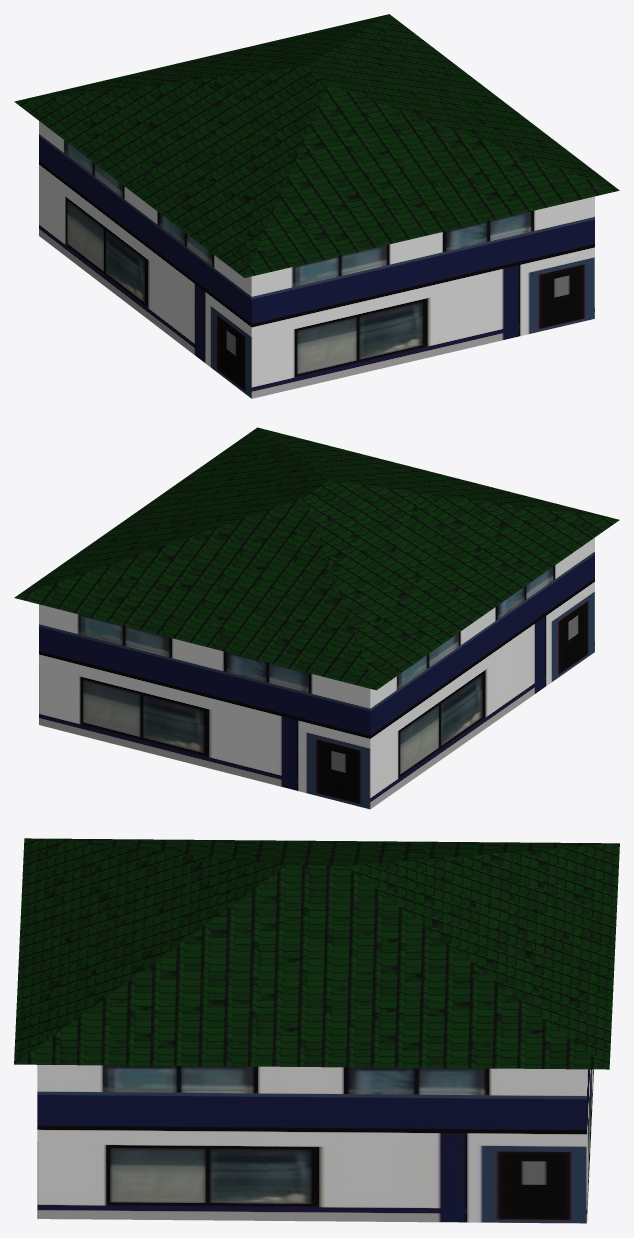
The picture shows the model from 3 angles, top to bottom: view 1: azimuth 30°, elevation 25°; view 2: azimuth 150°, elevation 25°; view 3: azimuth 270°, elevation 25°; orthographic projection. The views are drawn at different scales.
Parts seen in each view (by area): view 1: CityEngineMaterial_13_m, CityEngineMaterial_2_m; view 2: CityEngineMaterial_13_m, CityEngineMaterial_2_m; view 3: CityEngineMaterial_13_m, CityEngineMaterial_2_m.
Part boxes in pixels (<box>): CityEngineMaterial_13_m: <box>14,14,619,277</box>; CityEngineMaterial_2_m: <box>39,121,594,398</box>; CityEngineMaterial_13_m: <box>14,427,619,690</box>; CityEngineMaterial_2_m: <box>39,537,594,809</box>; CityEngineMaterial_13_m: <box>14,838,619,1069</box>; CityEngineMaterial_2_m: <box>37,1065,593,1223</box>.
Size of the model in its own units: 22.33 by 11.37 by 24.75.
